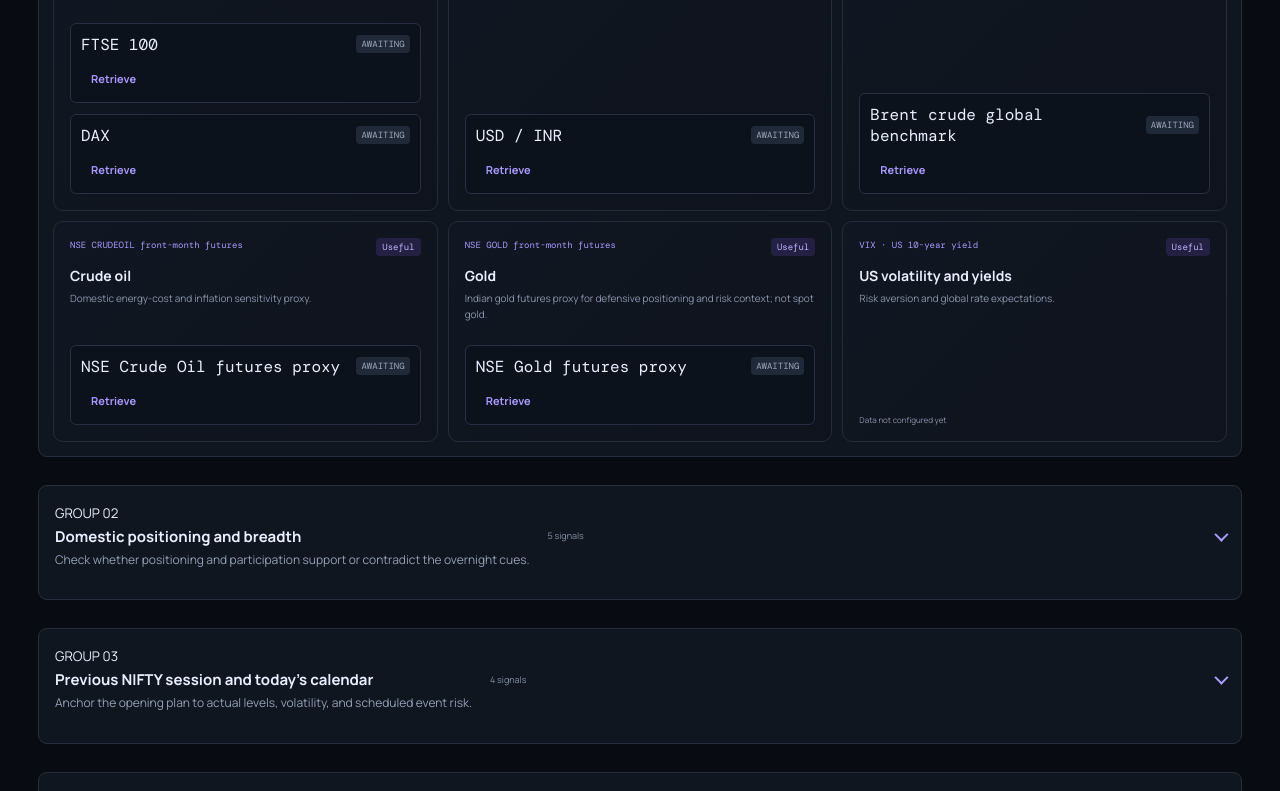
Test: NiftyPremarket › identifies crude oil as an NSE futures quote
The width and height of the screenshot is (1280, 791).
(page scrolled)
What coordinates should you click on to do the following:
click the button with aria-label "Retrieve NSE Crude Oil futures proxy"
I would click on:
 (114, 400)
Its box is [81,387,146,414].
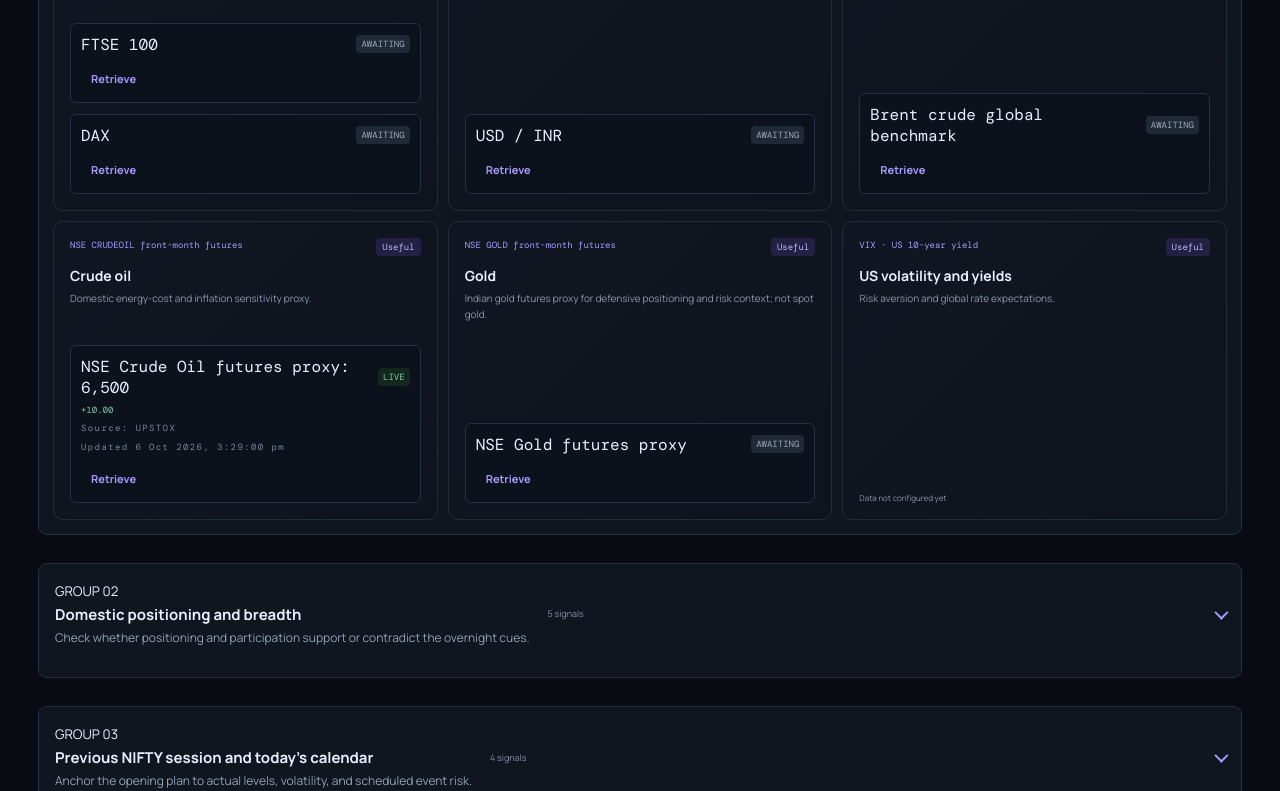
Expected: the text "NSE Crude Oil futures proxy: 6,500" is shown, [81,356,370,398]
